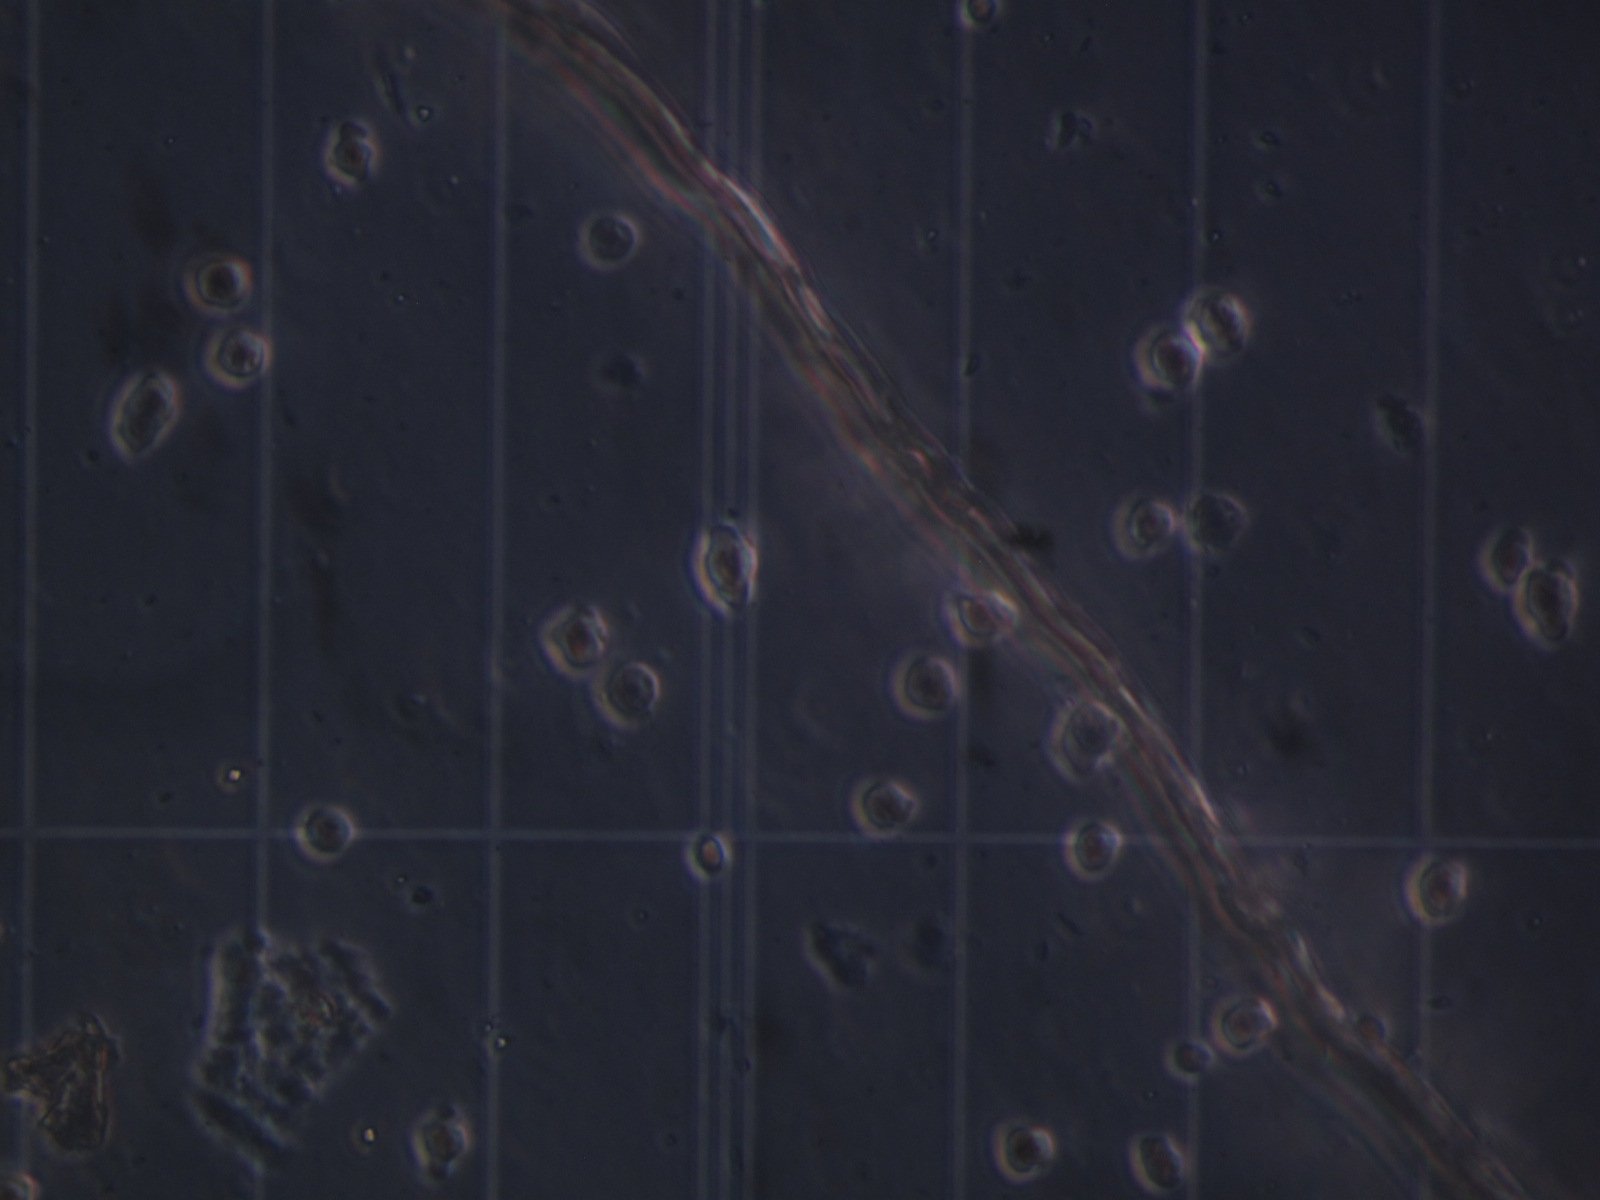hemo: (1038, 695, 1124, 782), (108, 367, 178, 463), (690, 521, 757, 614), (1513, 558, 1579, 649), (1131, 321, 1202, 400), (942, 579, 1019, 647), (181, 247, 254, 315), (892, 645, 959, 718), (1107, 492, 1175, 561), (1187, 286, 1250, 361), (598, 658, 660, 734), (539, 604, 606, 673), (1177, 488, 1247, 553), (1407, 852, 1469, 926), (205, 321, 272, 389), (850, 774, 918, 839), (990, 1117, 1054, 1184), (1211, 993, 1275, 1059), (1477, 524, 1534, 594), (296, 800, 355, 866), (577, 211, 640, 270), (1128, 1131, 1187, 1194), (1065, 819, 1121, 879), (1165, 1034, 1217, 1083), (685, 828, 733, 881), (411, 1119, 470, 1161), (326, 136, 379, 182), (960, 1, 1007, 30)
